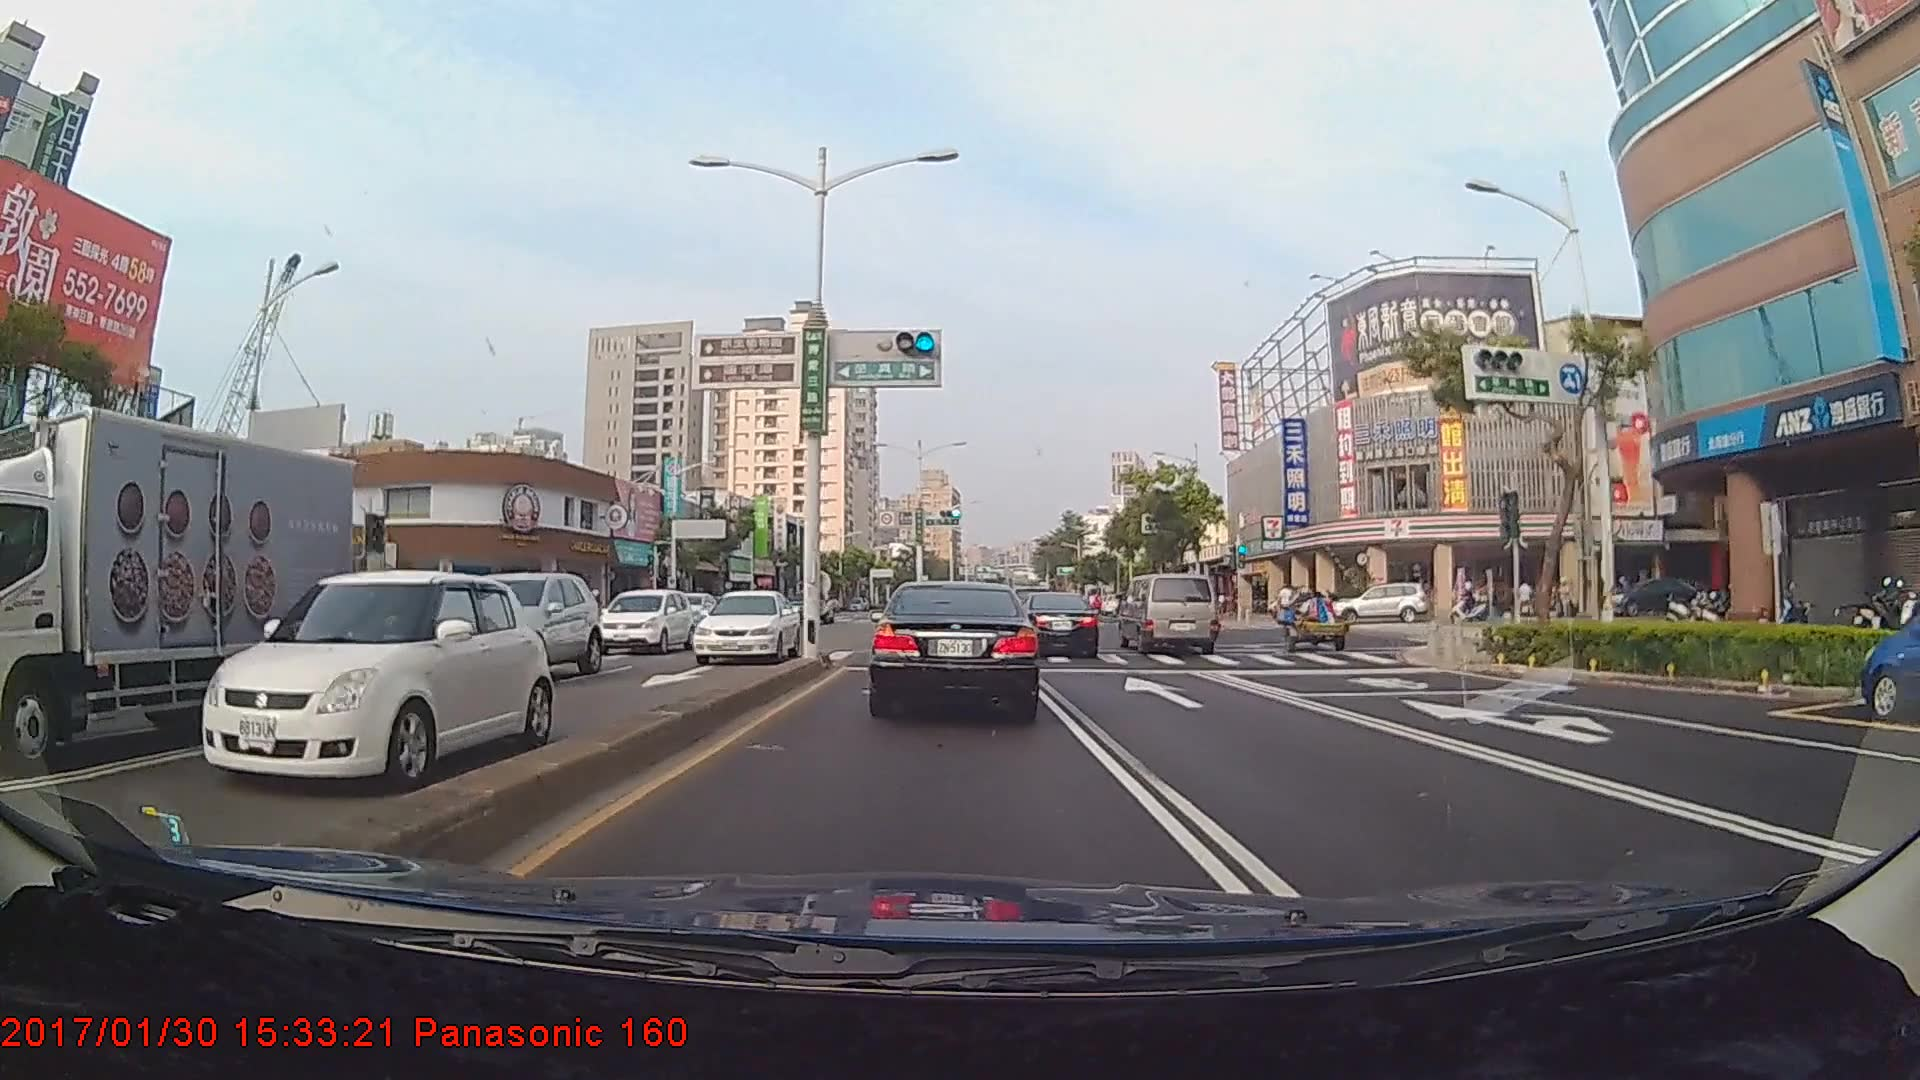vehicle: (0, 405, 349, 752), (161, 559, 520, 807), (870, 576, 1039, 719), (422, 564, 599, 679), (684, 583, 804, 665), (1854, 584, 1920, 717), (1120, 571, 1221, 657), (585, 583, 690, 655), (1021, 592, 1100, 657), (1342, 580, 1433, 625)
